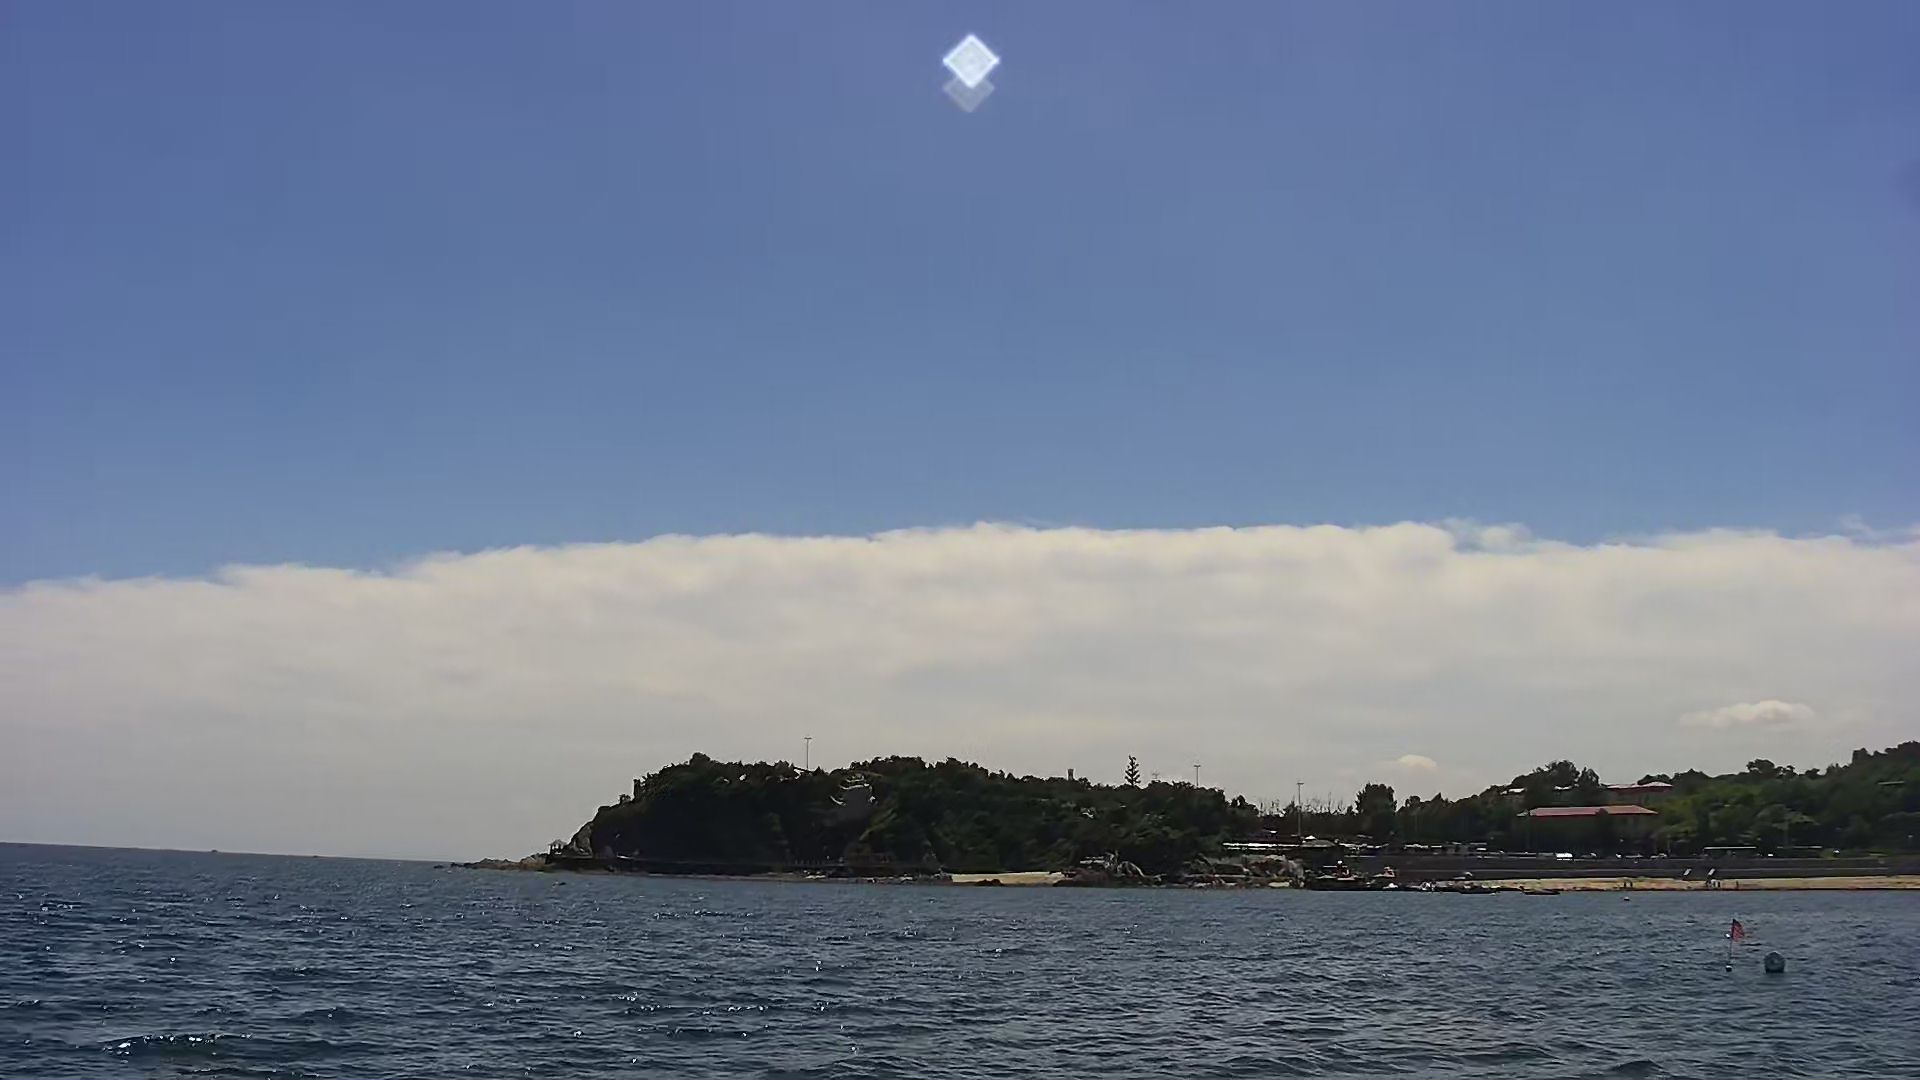ball: (1764, 942, 1804, 972)
boat: (1286, 857, 1400, 891)
buoy: (1712, 913, 1751, 978)
